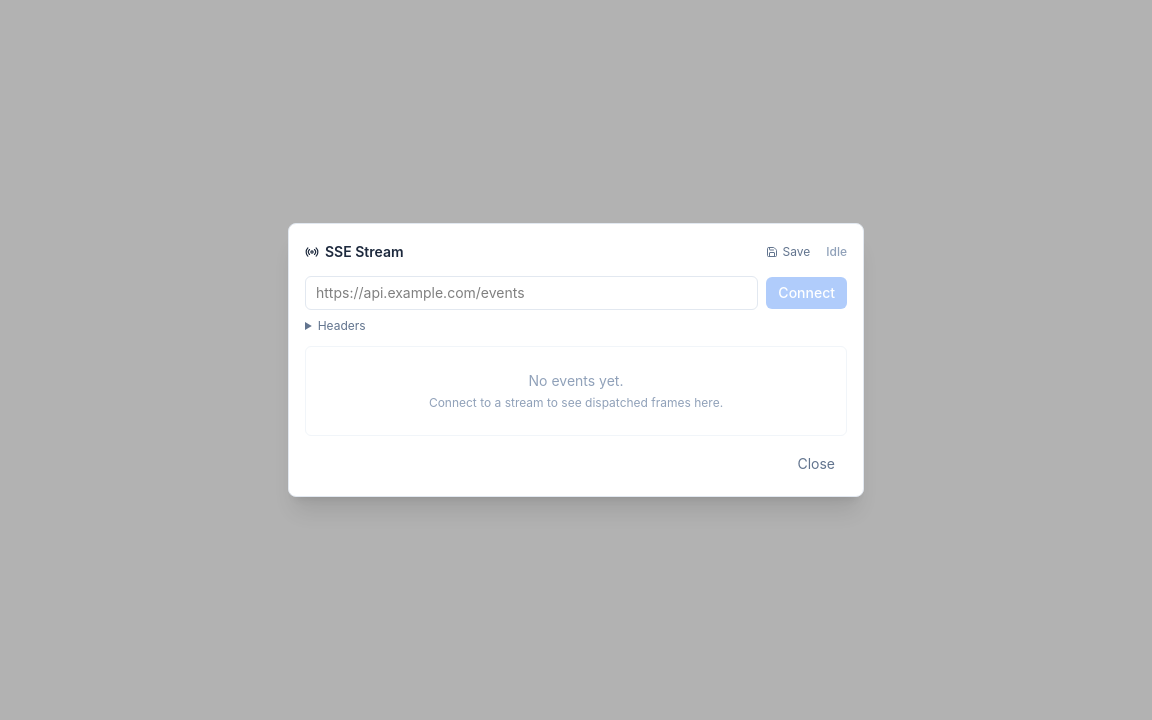
Test: SsePanel › disables Connect until a valid URL is entered
Check: the button "Connect" is disabled, box left=766, top=277, right=847, bottom=309
Type "not a url" into the field with placeholder "https://api.example.com/events". click: (532, 293)
box: left=305, top=276, right=758, bottom=310
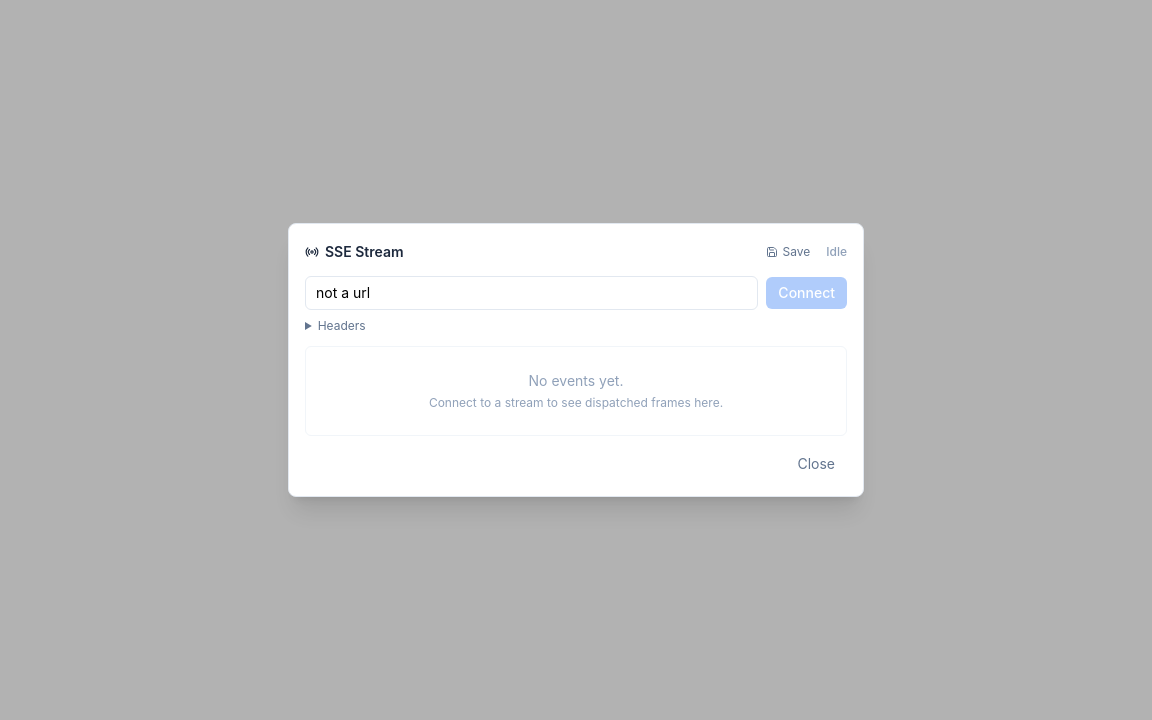
Check: the button "Connect" is disabled, box left=766, top=277, right=847, bottom=309
Replace the text in the field with placeholder "https://api.example.com/events" with "https://api.example.com/events". click: (532, 293)
box: left=305, top=276, right=758, bottom=310
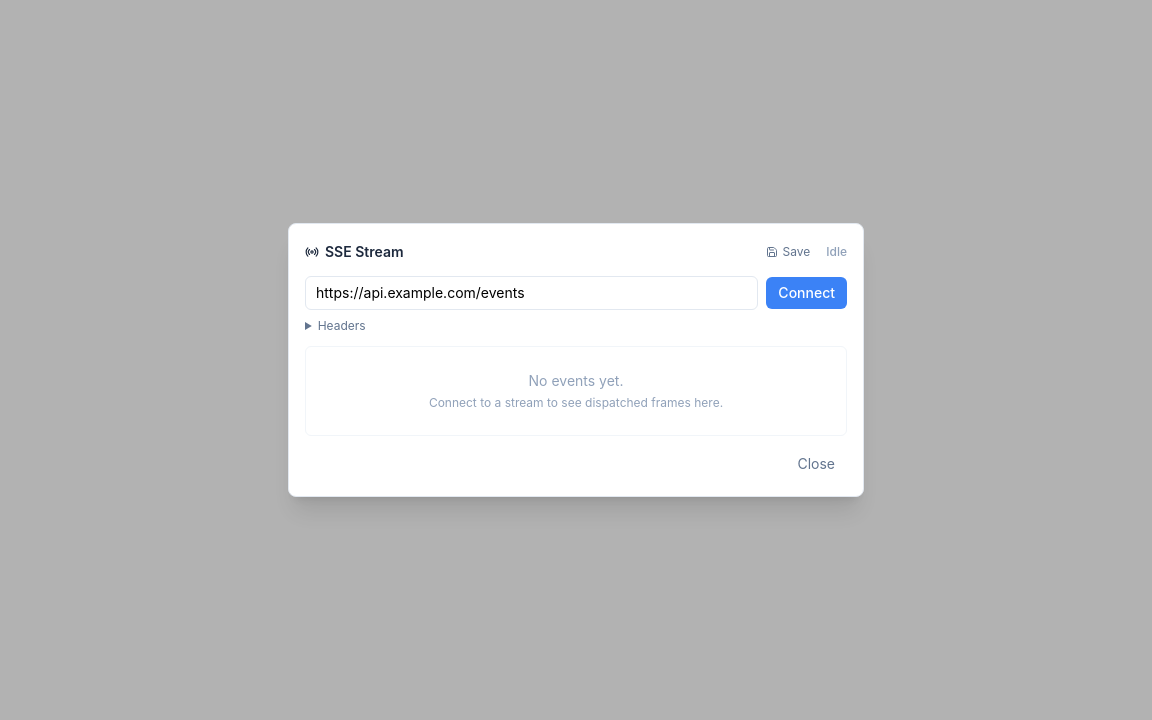
Check: the button "Connect" is enabled, box left=766, top=277, right=847, bottom=309
